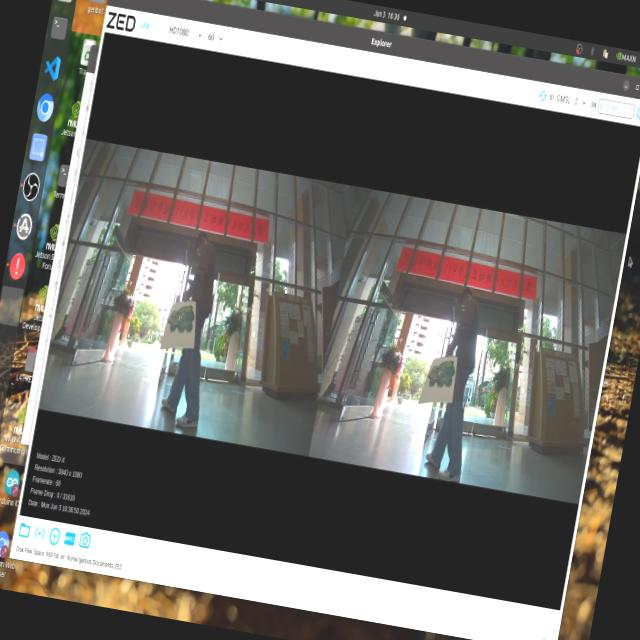green: (166, 306, 206, 348), (421, 354, 455, 394)
